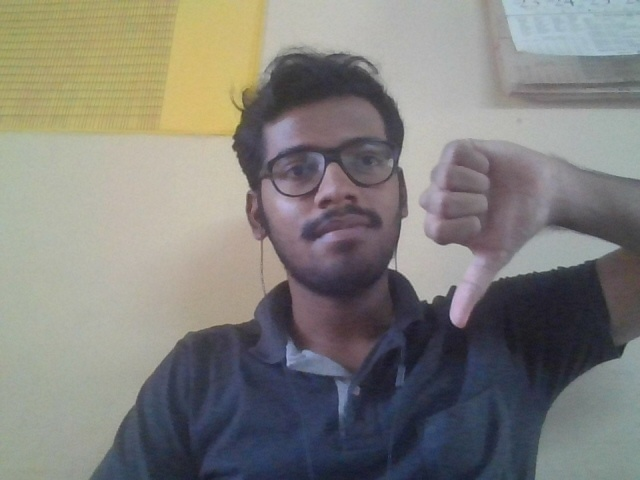ThumbsDown: (418, 137, 560, 327)
